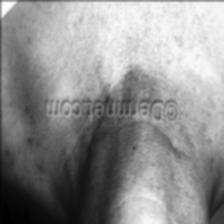Toxin: (91, 119, 180, 188), (89, 66, 174, 94)
